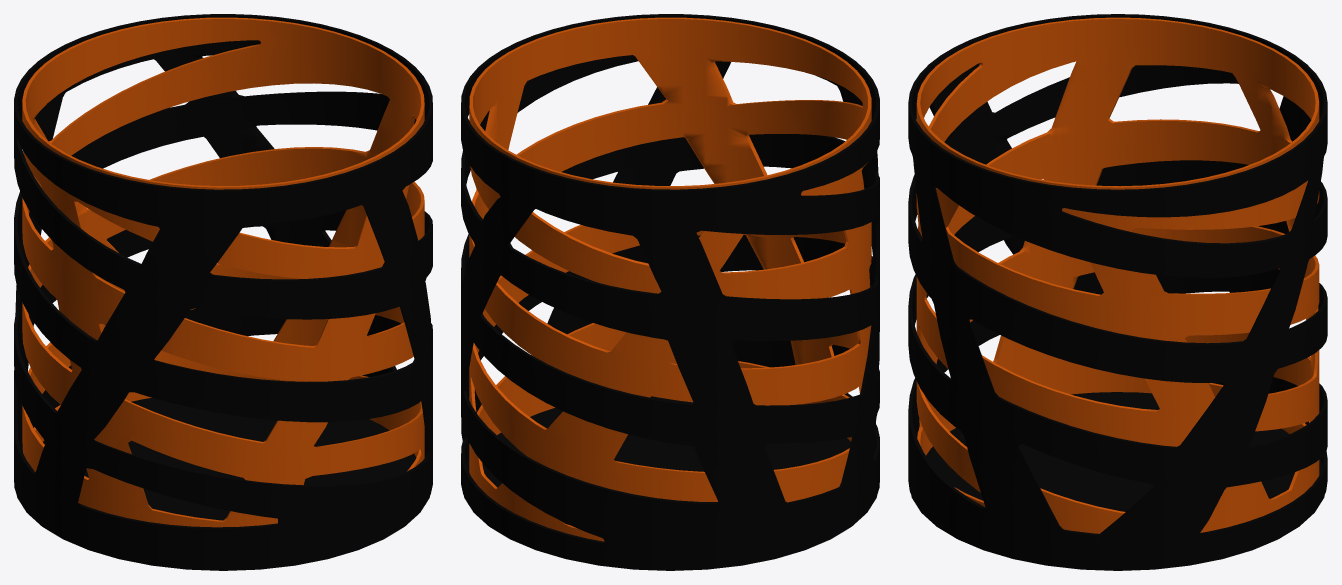
File: kamin.glb
3 views of the same model, side by side, from view 1: azimuth 30°, elevation 25°; view 2: azimuth 150°, elevation 25°; view 3: azimuth 270°, elevation 25° (orthographic).
Parts seen in each view (by area): view 1: Boole_2, Boole, Cylinder; view 2: Boole_2, Boole, Cylinder; view 3: Boole_2, Boole, Cylinder.
Part boxes in pixels (left/top/right/bottom): Boole_2: left=14, top=14, right=432, bottom=569; Boole: left=22, top=17, right=424, bottom=527; Cylinder: left=14, top=397, right=429, bottom=570; Boole_2: left=461, top=14, right=879, bottom=569; Boole: left=469, top=17, right=871, bottom=541; Cylinder: left=464, top=396, right=879, bottom=570; Boole_2: left=908, top=14, right=1327, bottom=569; Boole: left=916, top=17, right=1319, bottom=533; Cylinder: left=911, top=392, right=1324, bottom=570.
Bounding box in the file's own units: 0.04 × 0.04 × 0.04.
